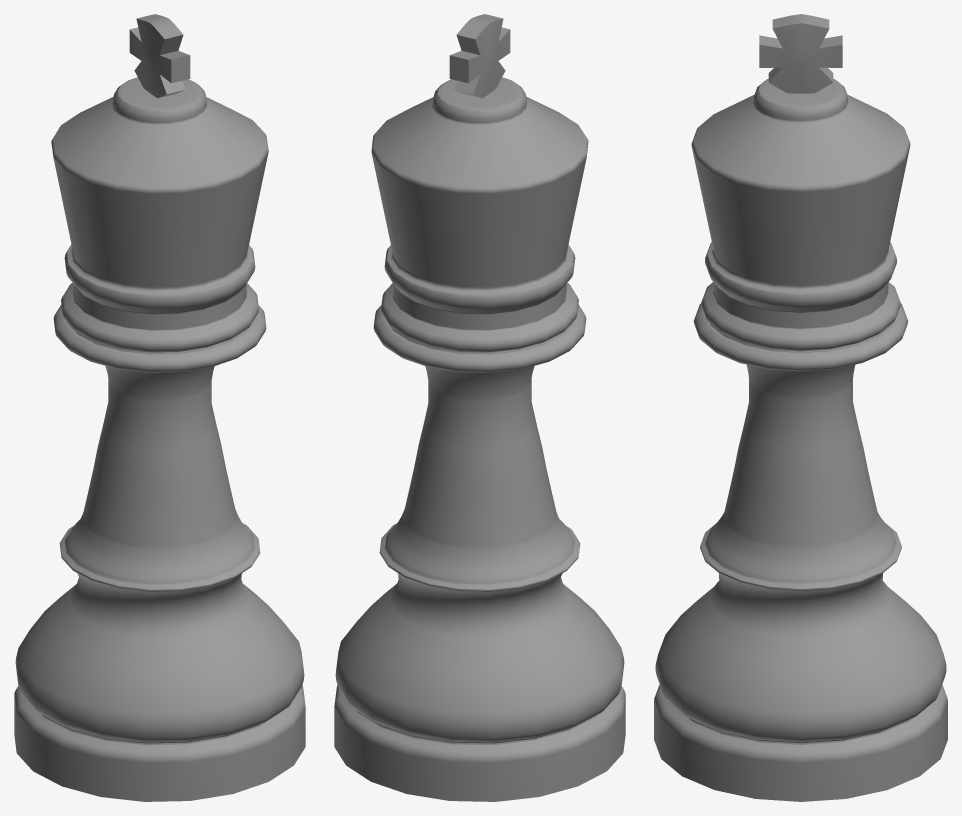
Rendered from king.glb.
3 renders of one model, left to right at view 1: azimuth 30°, elevation 25°; view 2: azimuth 150°, elevation 25°; view 3: azimuth 270°, elevation 25°, orthographic.
Parts seen in each view (by area): view 1: node_id6, node_id10; view 2: node_id6, node_id10; view 3: node_id6, node_id10.
Part boxes in pixels (bbox=[...]): node_id6: bbox=[14, 77, 305, 801]; node_id10: bbox=[129, 14, 190, 98]; node_id6: bbox=[334, 77, 625, 801]; node_id10: bbox=[449, 14, 510, 98]; node_id6: bbox=[654, 78, 947, 801]; node_id10: bbox=[759, 14, 842, 93].
Size of the model in its own units: 0.171 by 0.4631 by 0.171.
Materials: 2 (2 with a texture image).
